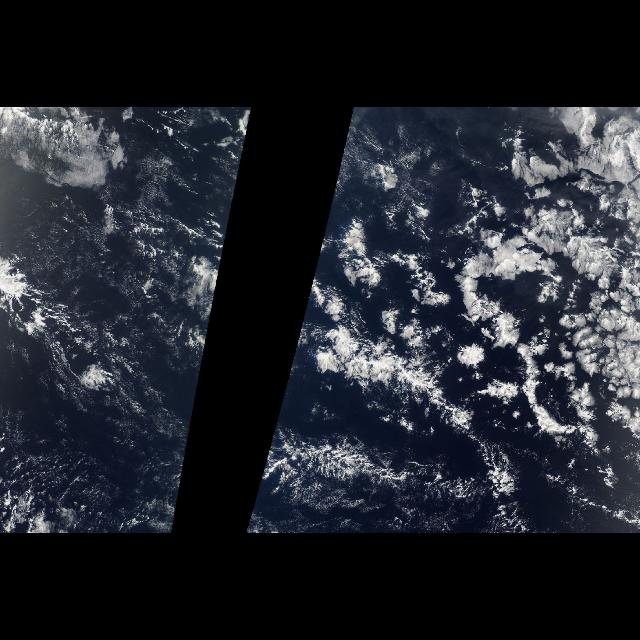Fish: (278, 277, 522, 523)
Gravel: (254, 431, 462, 533)
Sugar: (36, 170, 222, 318)
